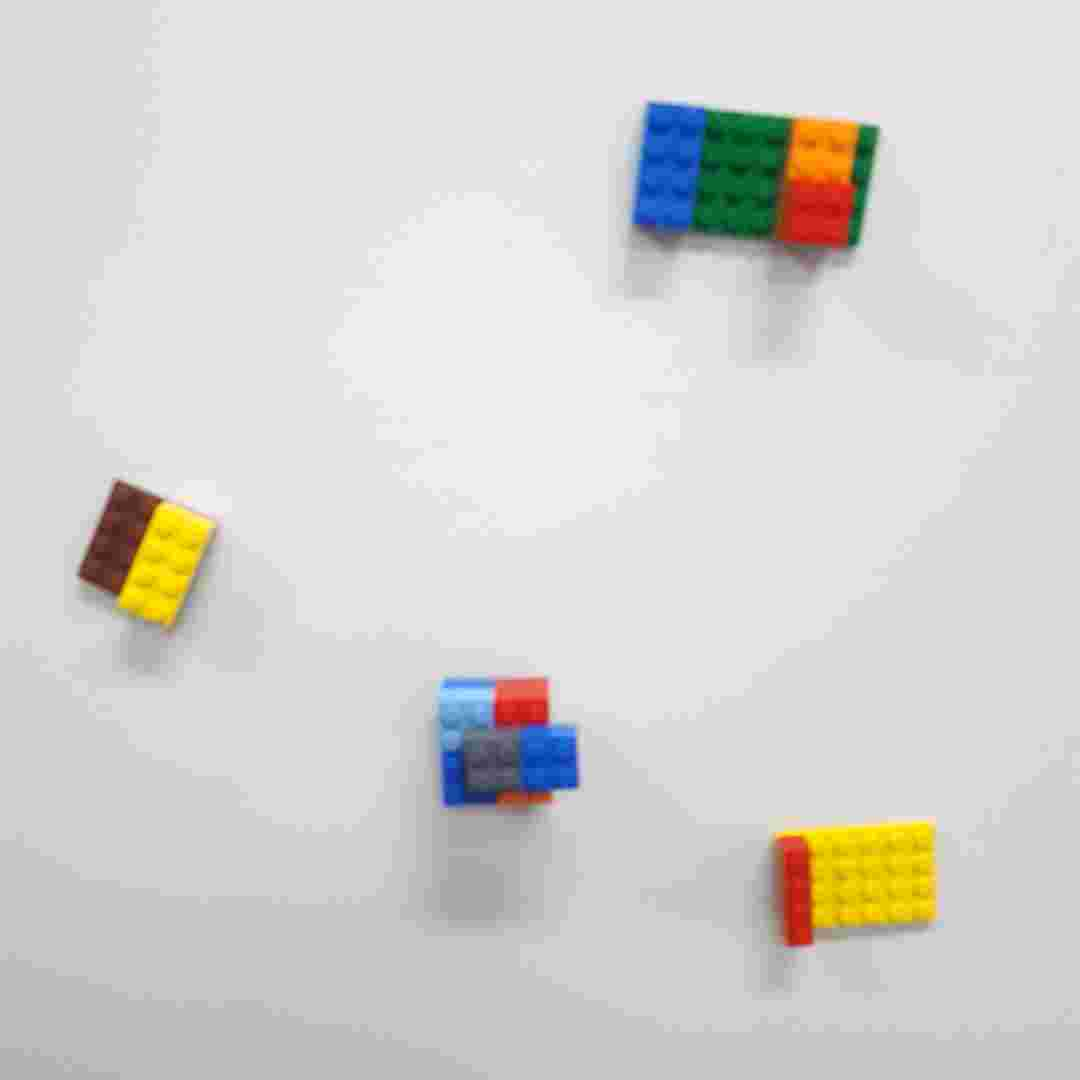LEGO: (625, 99, 886, 256), (770, 812, 949, 950), (71, 479, 222, 634), (437, 666, 586, 814)
